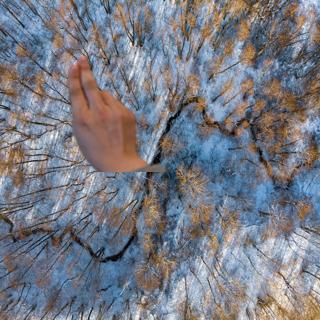DHAVE: (62, 52, 141, 165)
